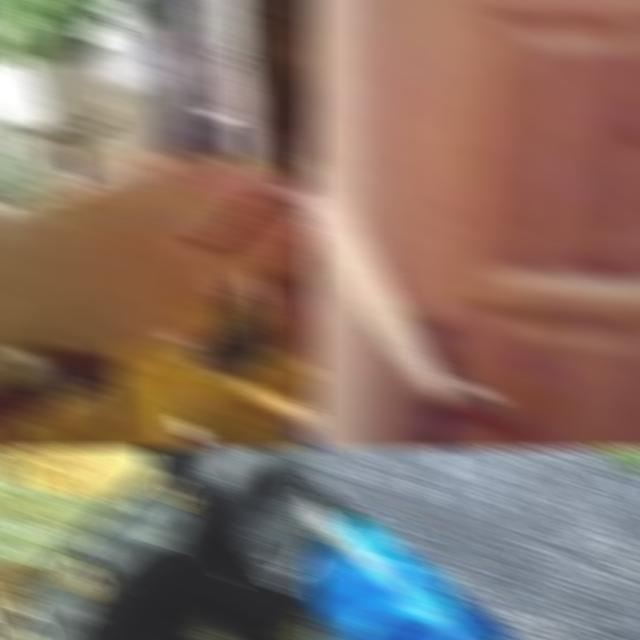Knife_Handle: (64, 108, 320, 349), (306, 0, 453, 402)
